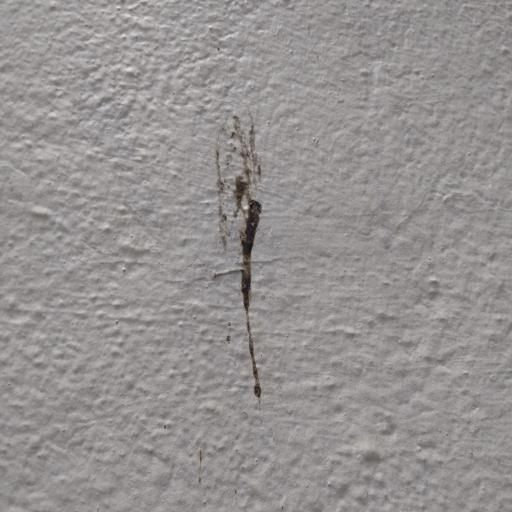stain: (202, 87, 304, 419), (184, 431, 216, 508)
